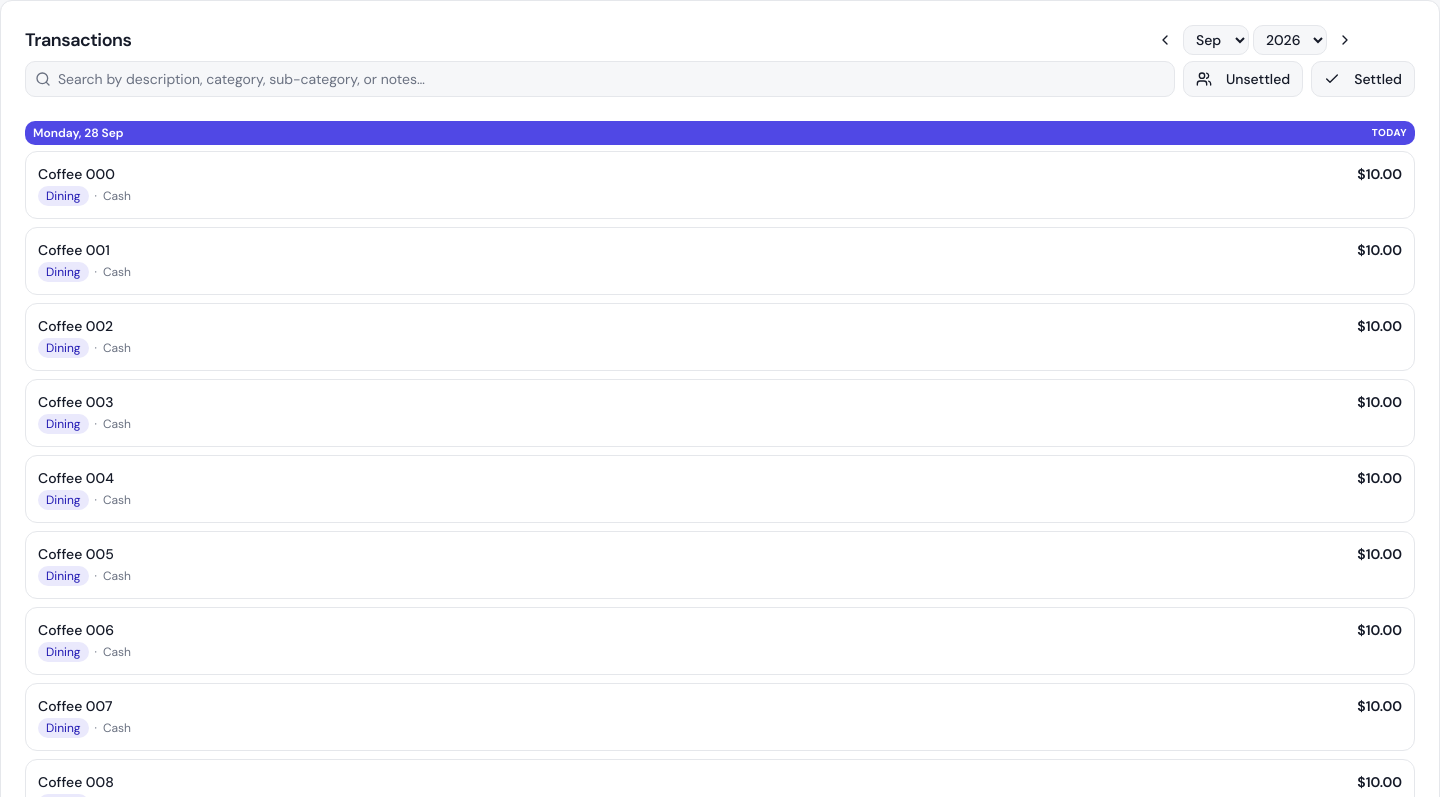
Test: TransactionList search › caps a broad search and says how many it left out
This screenshot has width=1440, height=797.
Type "coffee" into the field with placeholder "Search by description, category, sub-category, or notes…" at (600, 79), box [25,61,1175,97]
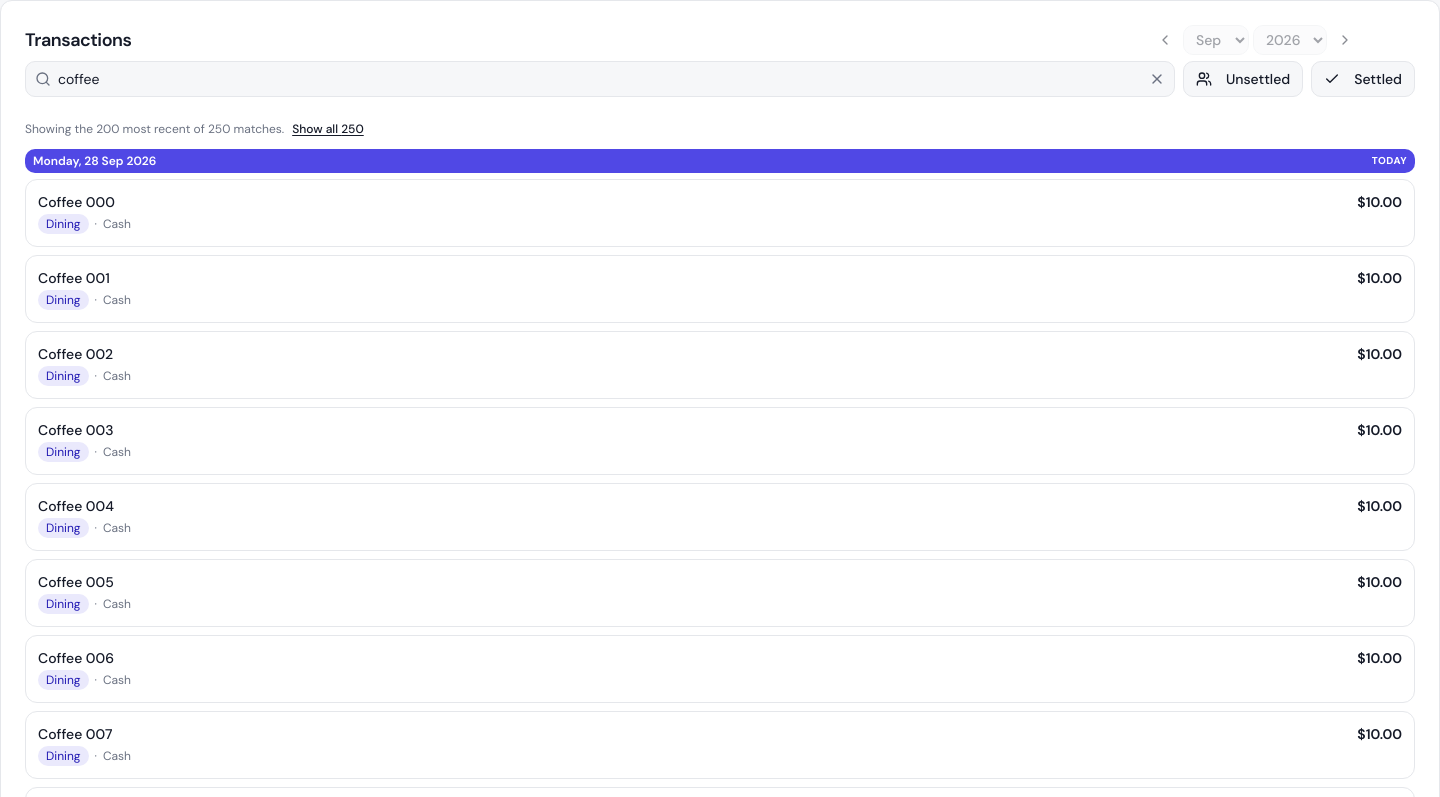
Check: the text "Coffee 000" is shown, box [38,193,115,211]
Check: the text "Coffee 000" is shown 200 times
Check: the text "Showing the 200 most recent of 250 matches." is shown, box [25,121,284,137]
